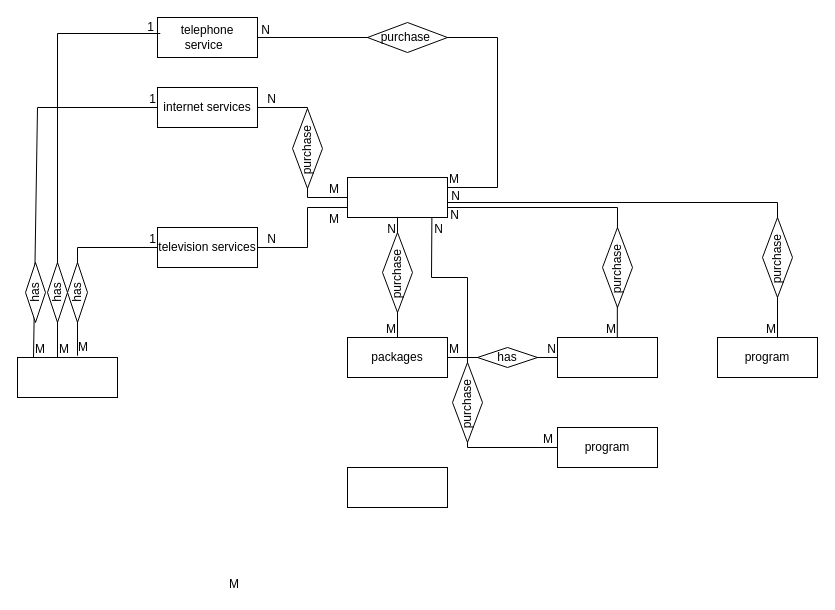
The diagram is 835 pixels wide and 610 high, and some of its shapes have lost their labels. Here are the shapes that lost their labels. From the top down, the centre of each, then its label:
At pixel 397 197: "Subscriber/ customer".
At pixel 67 377: "route".
At pixel 607 357: "channel".
At pixel 397 487: "price list".
